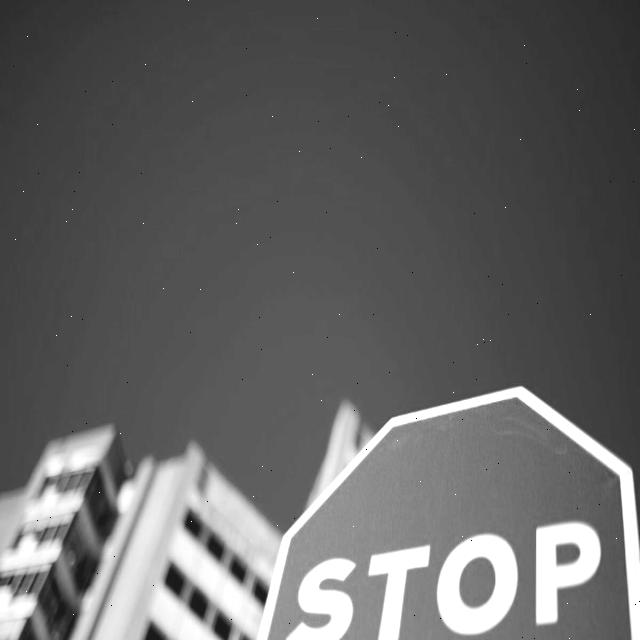Stop-sign: (254, 383, 638, 640)
